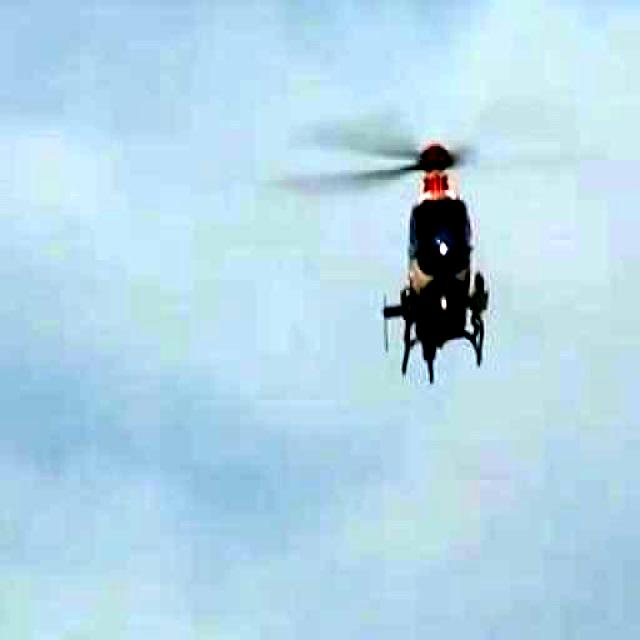drone: (310, 101, 586, 382)
